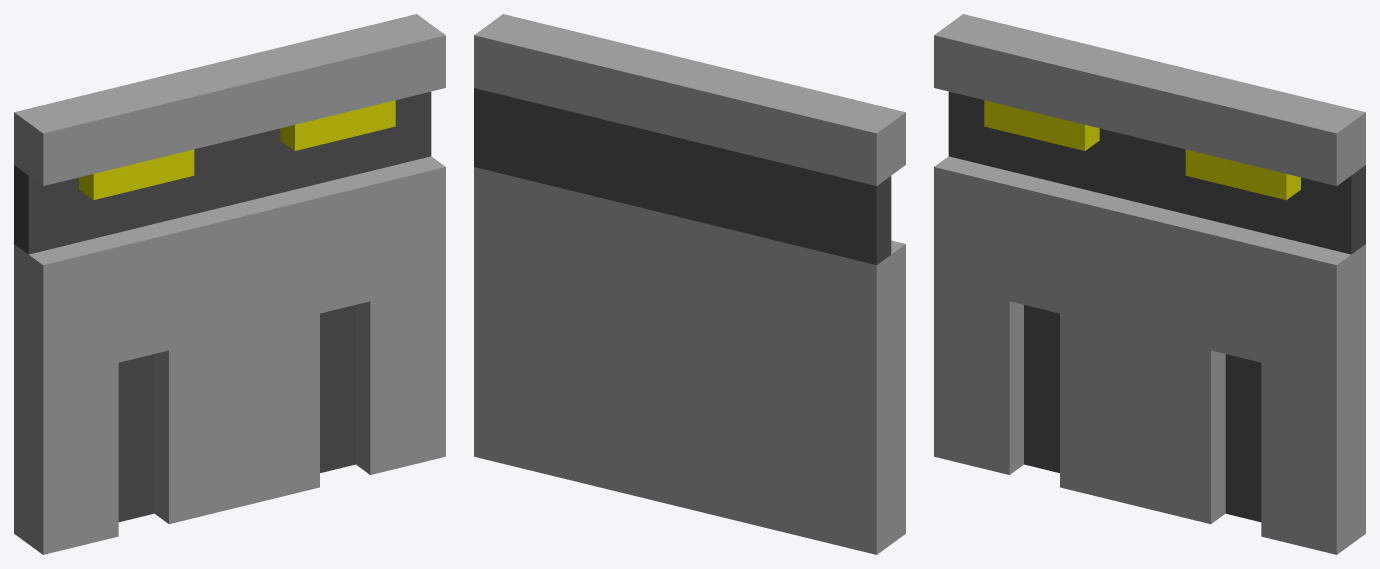
The model's file is SM_CapsuleDoor_01a.fbx.
3 renders of one model, left to right at view 1: azimuth 30°, elevation 25°; view 2: azimuth 150°, elevation 25°; view 3: azimuth 330°, elevation 25°, orthographic.
Visible parts, largest first — view 1: SM_CapsuleDoor_01a; view 2: SM_CapsuleDoor_01a; view 3: SM_CapsuleDoor_01a.
Part boxes in pixels (<box>): SM_CapsuleDoor_01a: <box>14,14,445,554</box>; SM_CapsuleDoor_01a: <box>474,14,905,554</box>; SM_CapsuleDoor_01a: <box>934,14,1365,554</box>.
Size of the model in its own units: 16 by 16 by 2.
